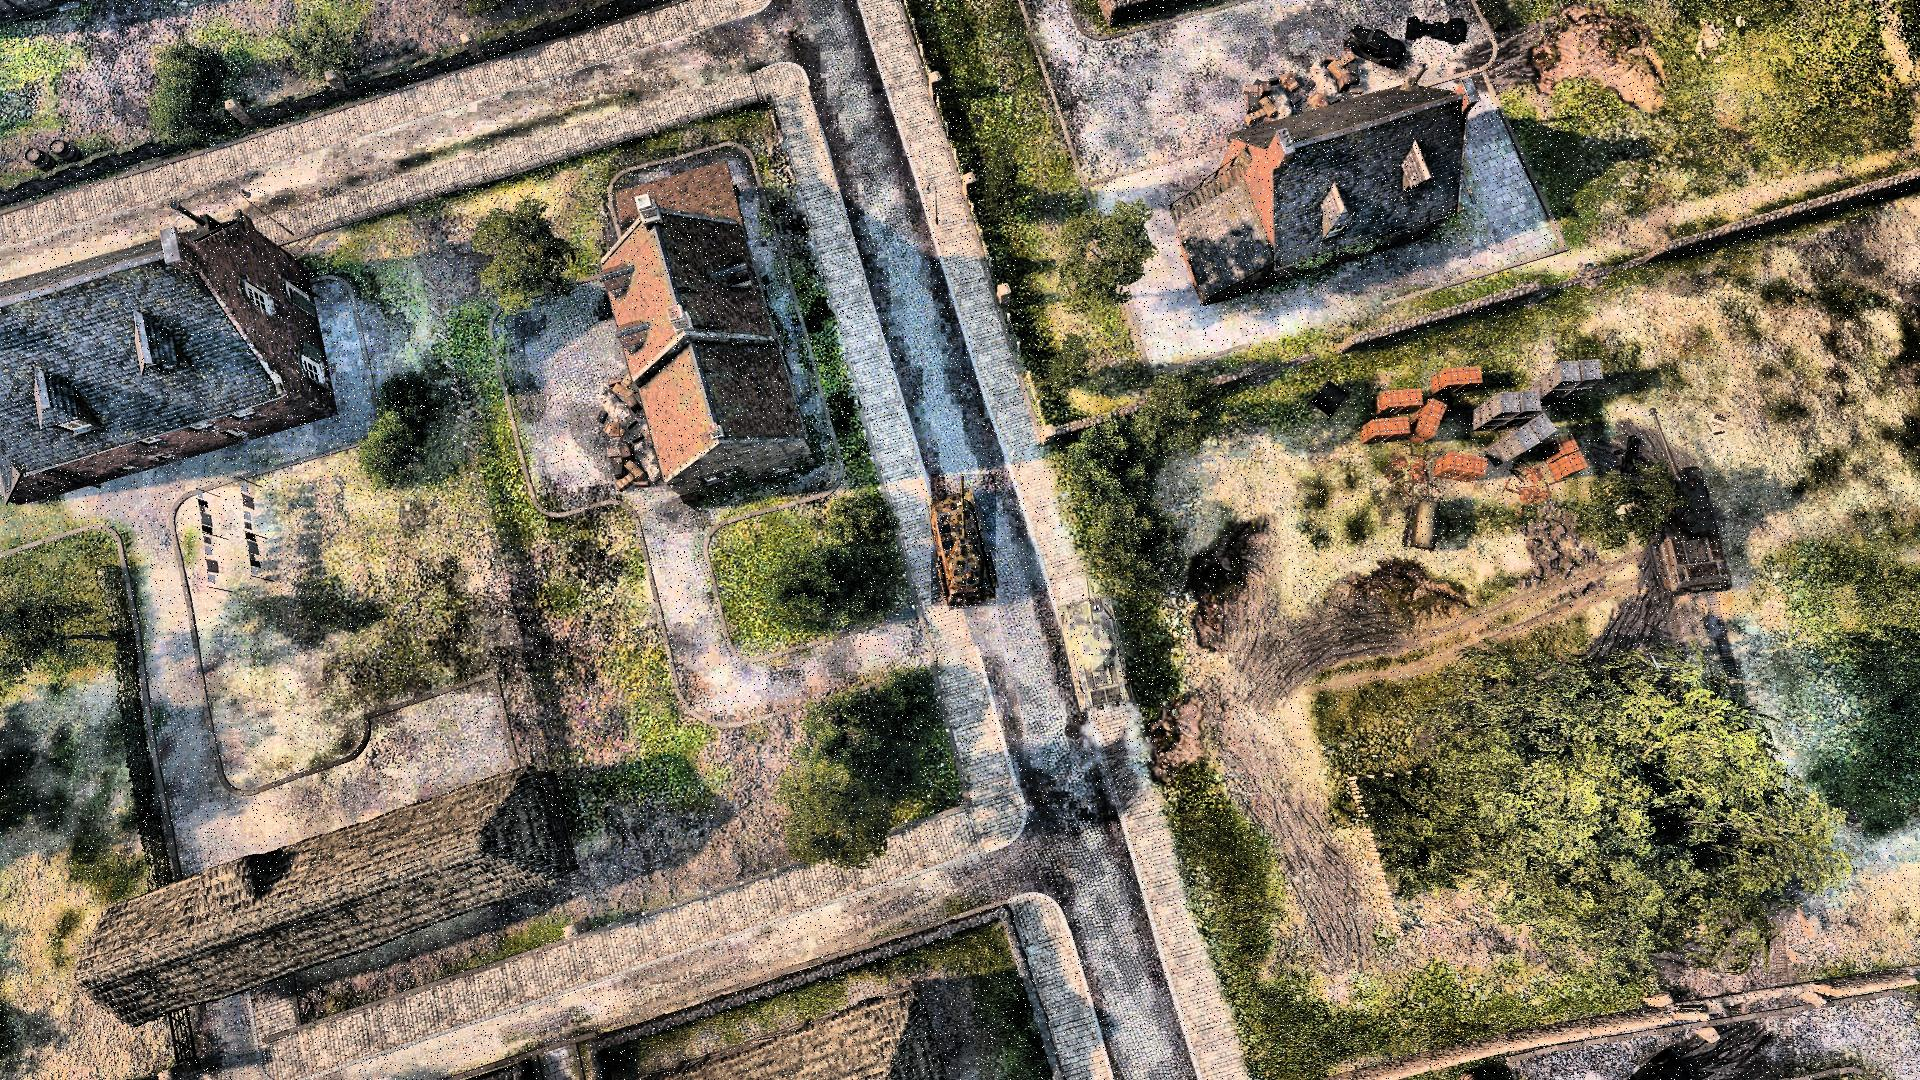military-vehicle: (1060, 580, 1125, 717), (932, 475, 997, 607)
